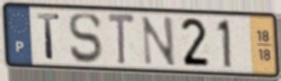1: (214, 18, 233, 70)
2: (179, 17, 212, 70)
N: (140, 14, 178, 68)
S: (67, 12, 103, 66)
T: (106, 10, 138, 68), (35, 11, 63, 62)
